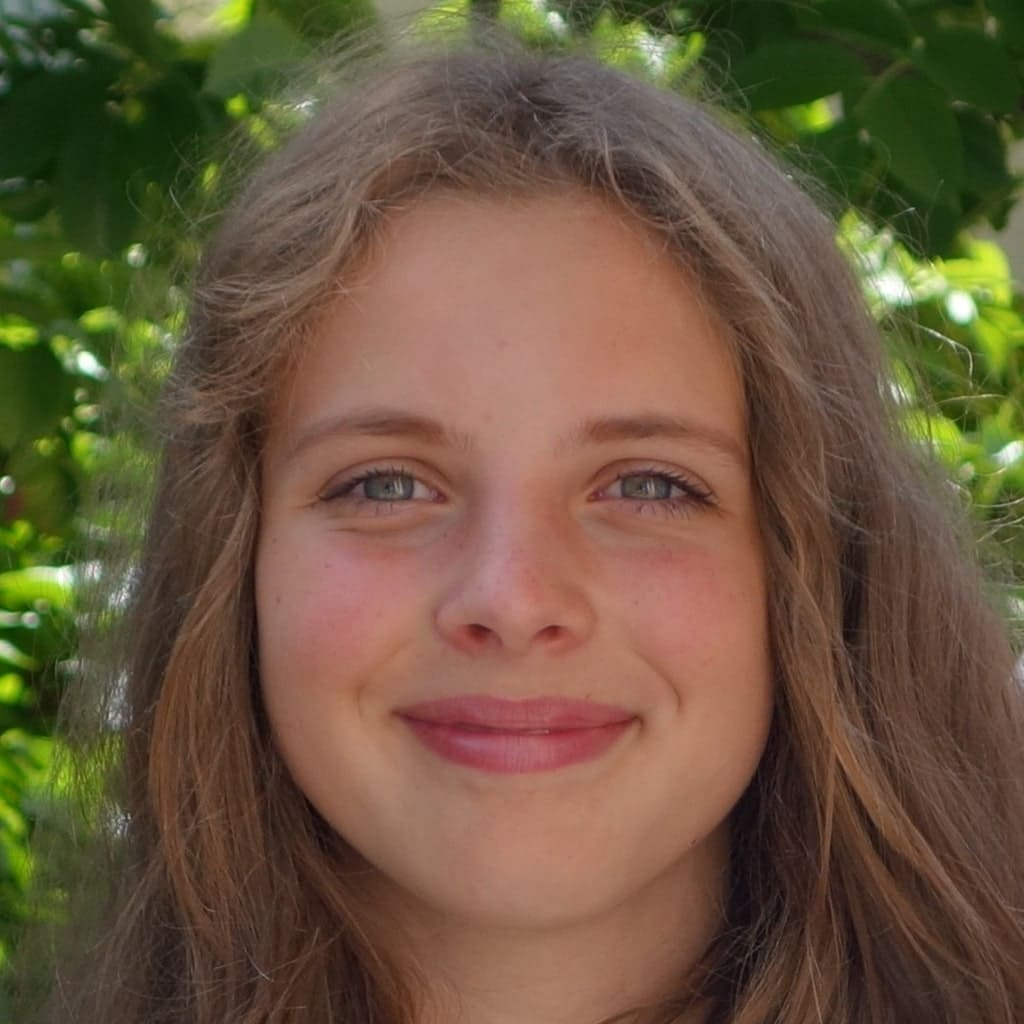without_mask: (268, 215, 786, 917)
